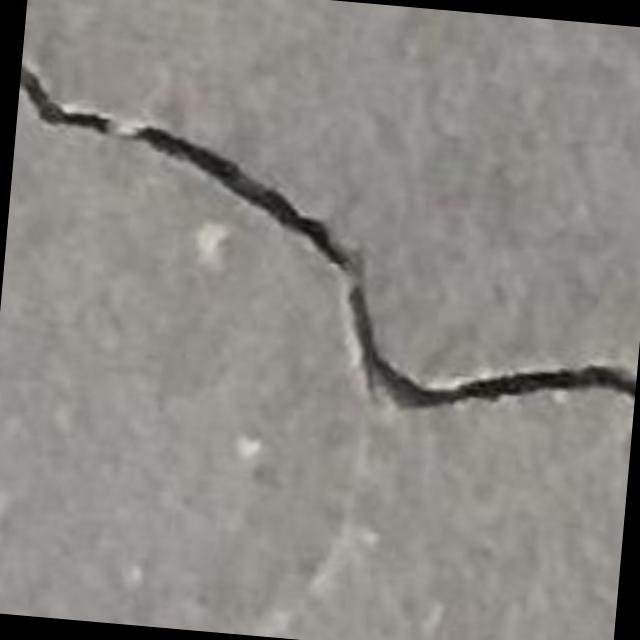crack: (20, 63, 636, 410)
